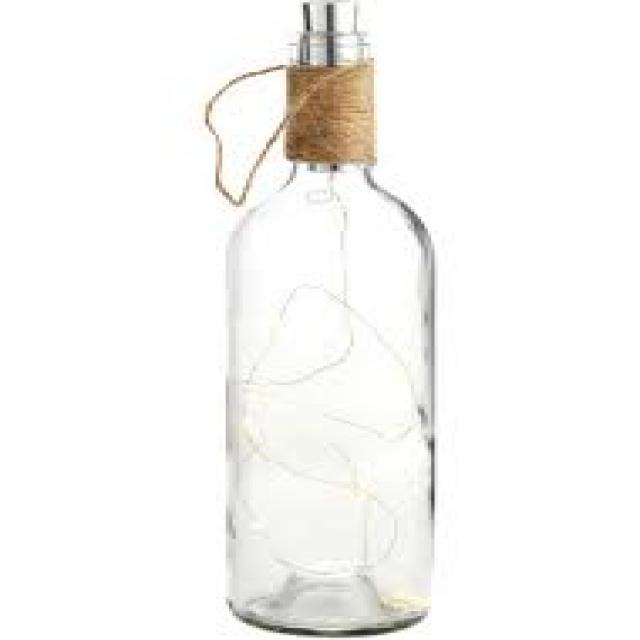Glass-Non-Biodegradable but Recyclable-: (221, 6, 438, 640)
